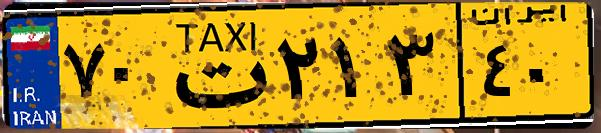0: (525, 38, 570, 115), (110, 28, 158, 98)
1: (330, 28, 385, 110)
2: (270, 28, 330, 110)
3: (385, 28, 445, 110)
4: (475, 38, 525, 113)
7: (57, 26, 110, 100)
ت: (158, 12, 270, 120)
